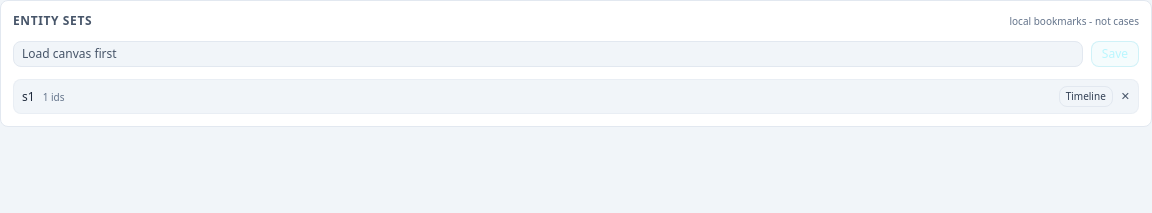
Test case: EntitySetPanel › shows an error string (not a toast) when the decision plane is down
This screenshot has width=1152, height=213.
Click the button with test id "entity-set-timeline-s1" at (1086, 96), box [1059,86,1113,107]
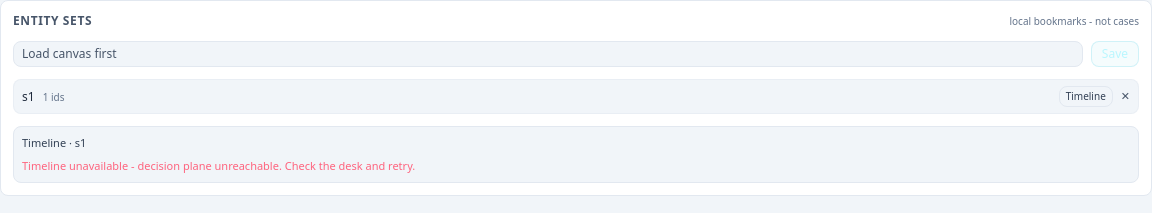
Check: the text with test id "entity-timeline-error" is shown, box [22,158,415,172]
